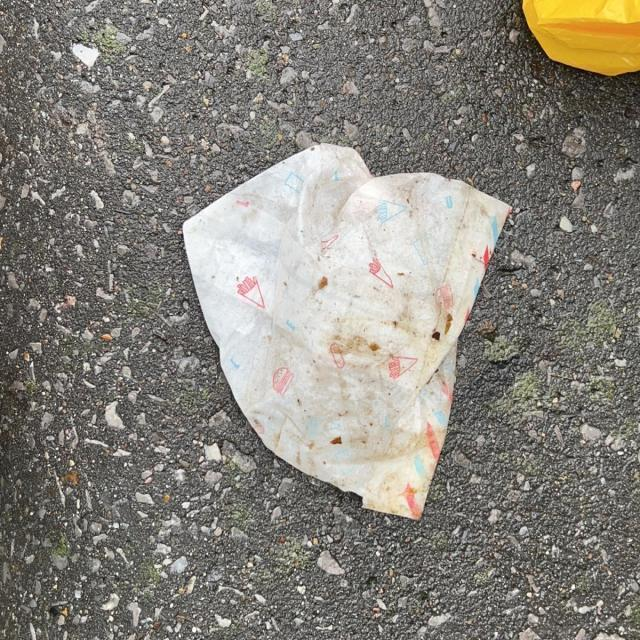Paper: (176, 140, 514, 518)
